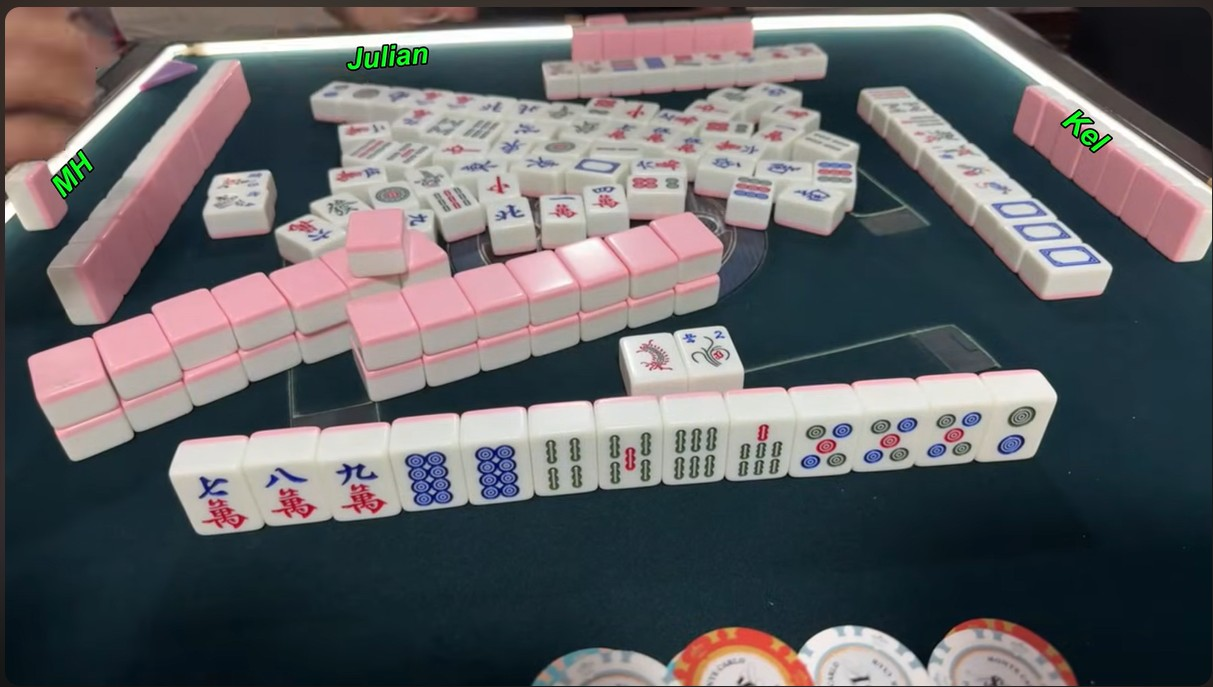TILE: (171, 469, 260, 533), (318, 460, 399, 518), (249, 465, 329, 523), (390, 449, 467, 509), (985, 400, 1056, 460), (461, 443, 535, 500), (595, 430, 662, 489), (663, 425, 729, 484), (924, 407, 992, 464), (530, 436, 595, 495), (730, 421, 796, 479), (859, 412, 924, 470), (794, 417, 856, 475), (619, 333, 681, 384), (677, 327, 740, 372)
